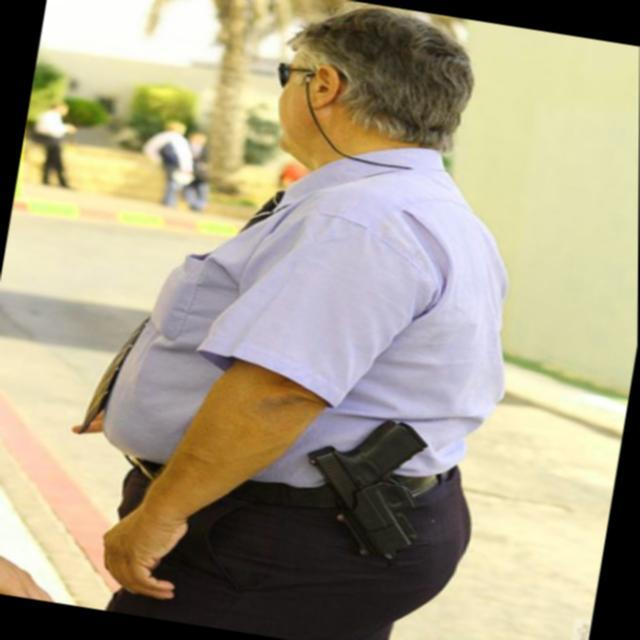weapon: (290, 402, 444, 572)
